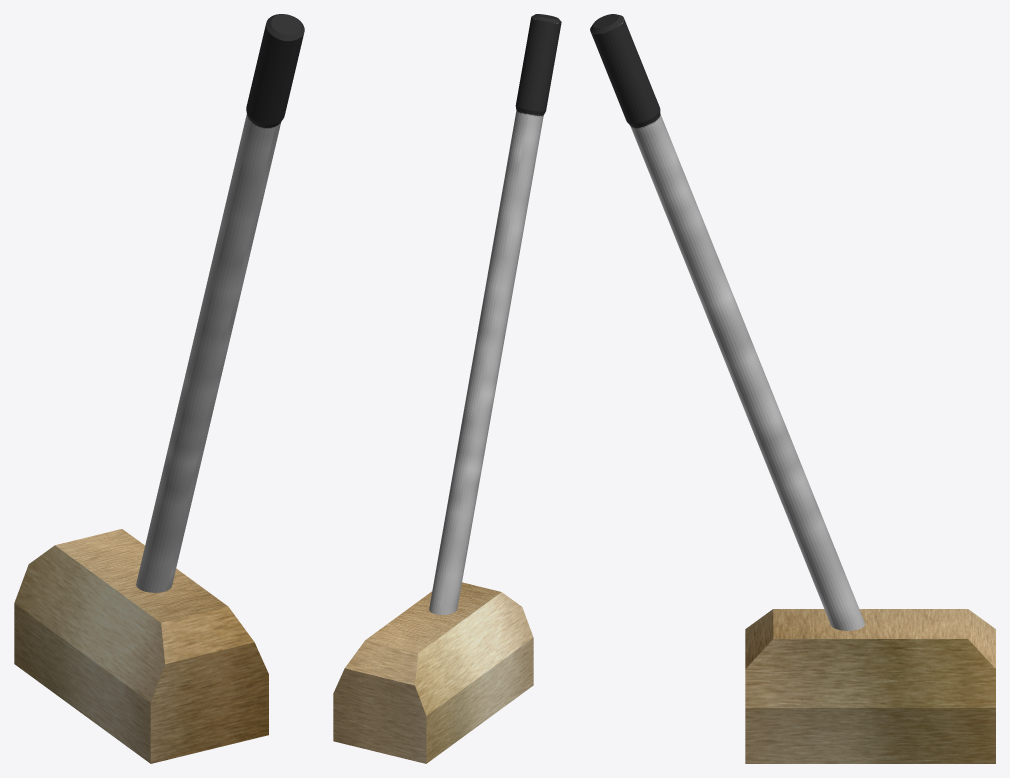
The model's file is lever.fbx.
The picture shows the model from 3 angles, left to right: view 1: azimuth 30°, elevation 25°; view 2: azimuth 150°, elevation 25°; view 3: azimuth 270°, elevation 25°; orthographic projection. The views are drawn at different scales.
Visible parts, largest first — view 1: LeverBox, Lever; view 2: LeverBox, Lever; view 3: LeverBox, Lever.
Boxes of the visible parts, left/top/right/bottom form: LeverBox: left=14, top=529, right=268, bottom=763; Lever: left=136, top=14, right=304, bottom=592; LeverBox: left=333, top=582, right=533, bottom=763; Lever: left=429, top=14, right=561, bottom=614; LeverBox: left=745, top=609, right=995, bottom=763; Lever: left=590, top=14, right=864, bottom=630.
Bounding box in the file's own units: 10 × 63.49 × 32.41.
